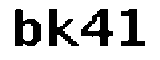1: (117, 6, 149, 54)
4: (78, 5, 114, 50)
b: (8, 7, 41, 50)
k: (46, 9, 81, 53)
